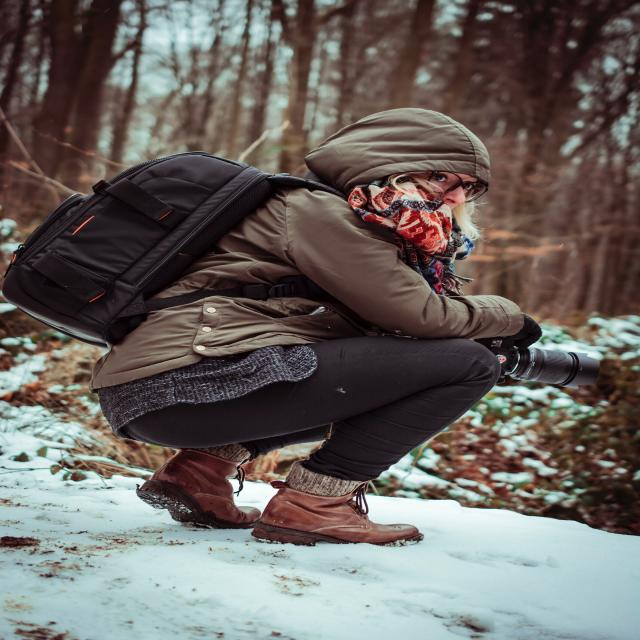backpack: (8, 154, 358, 348)
